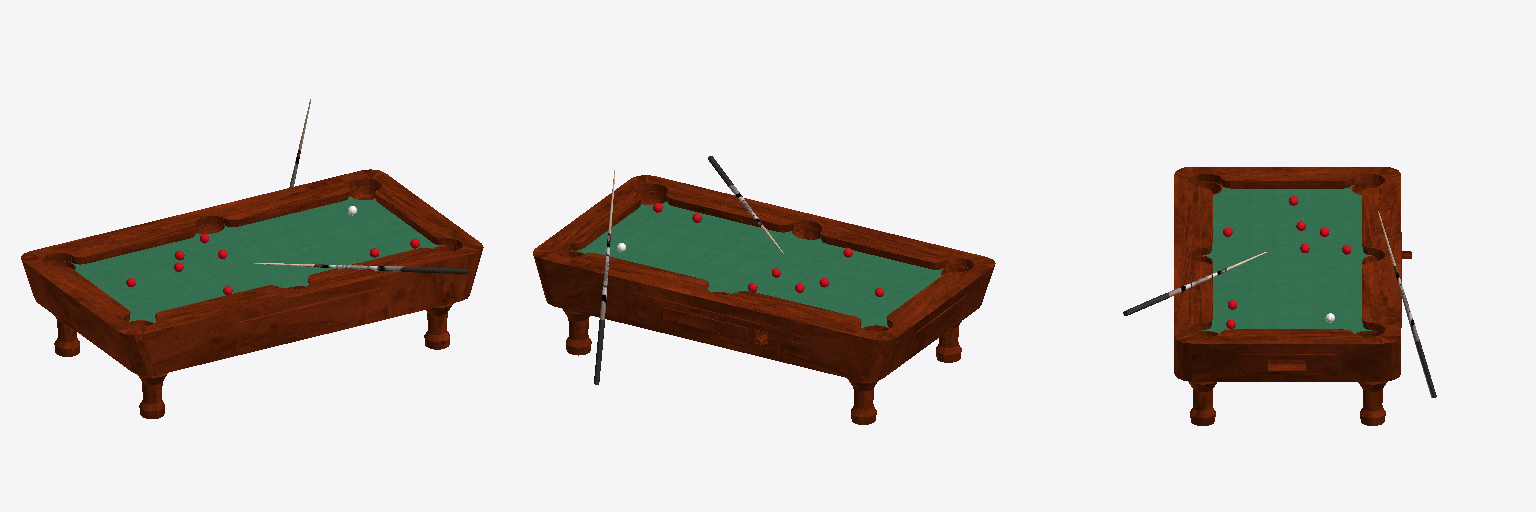
3 renders of one model, left to right at view 1: azimuth 30°, elevation 25°; view 2: azimuth 150°, elevation 25°; view 3: azimuth 270°, elevation 25°, orthographic.
Visible parts, largest first — view 1: ChamferBox2; view 2: ChamferBox2; view 3: ChamferBox2.
Part boxes in pixels (x1,y1,x2,y2): ChamferBox2: (21,99,483,418); ChamferBox2: (533,156,995,424); ChamferBox2: (1123,167,1436,425).
Size of the model in its own units: 33.16 by 16.8 by 24.85.
Materials: 1 (1 with a texture image).